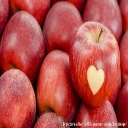apple: (70, 21, 120, 110)
